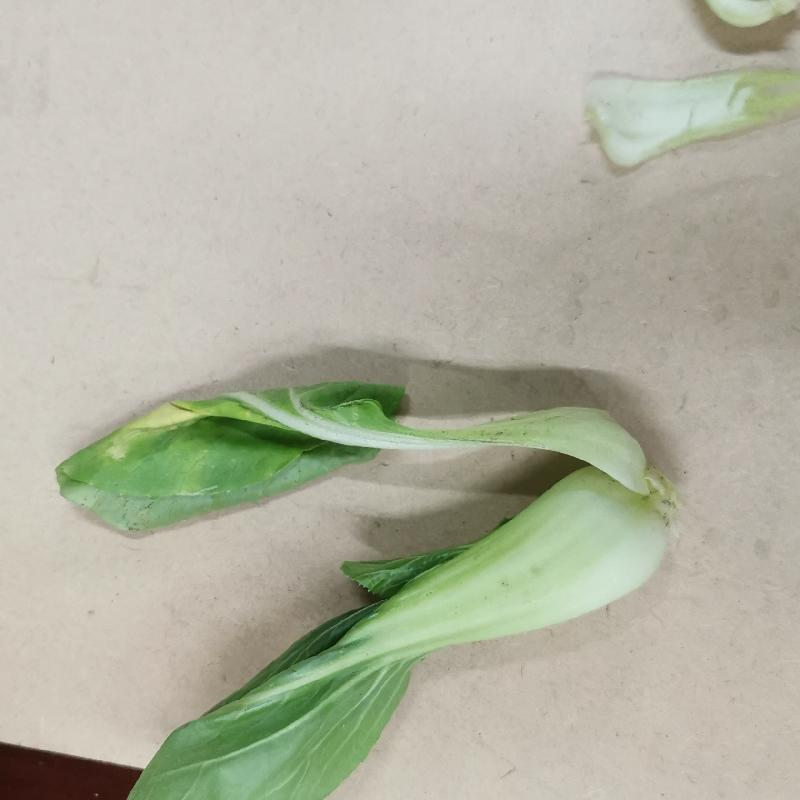green vegatable: (49, 363, 690, 800)
